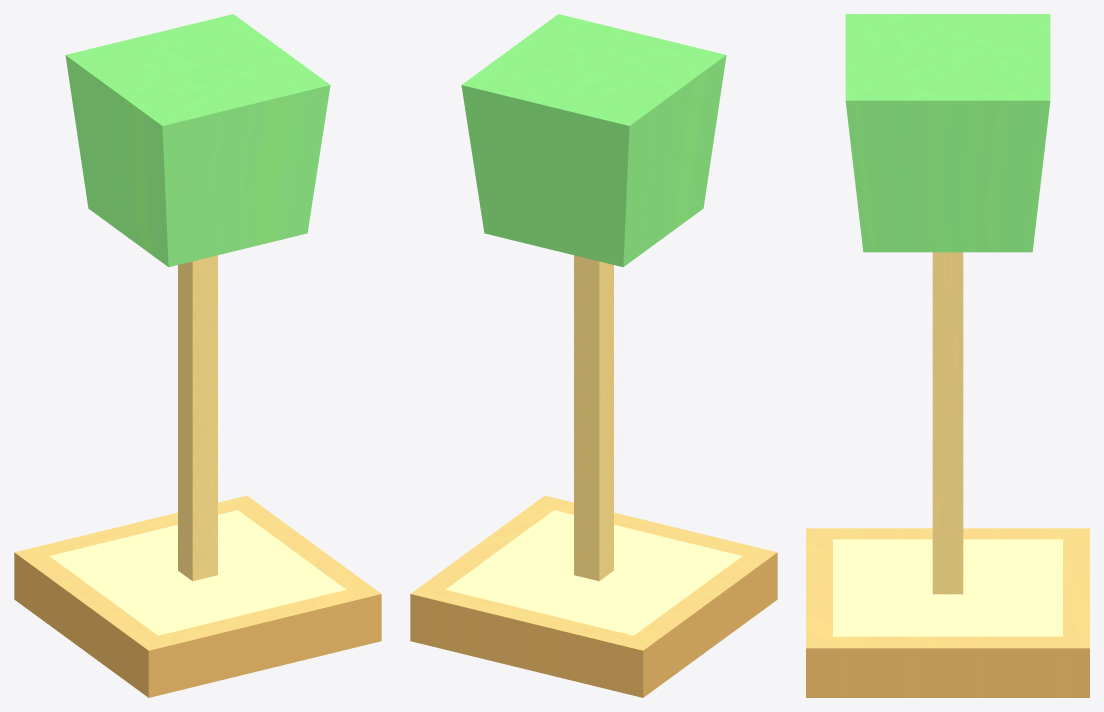
File: trees.007.glb
The picture shows the model from 3 angles, left to right: view 1: azimuth 30°, elevation 25°; view 2: azimuth 150°, elevation 25°; view 3: azimuth 270°, elevation 25°; orthographic projection. The views are drawn at different scales.
Visible parts, largest first — view 1: trees.007(Clone); view 2: trees.007(Clone); view 3: trees.007(Clone).
Boxes of the visible parts, x1,y1,x2,y2 form: trees.007(Clone): (14, 14, 381, 697); trees.007(Clone): (410, 14, 777, 697); trees.007(Clone): (806, 14, 1089, 697).
Size of the model in its own units: 1.06 by 2.38 by 1.06.
1 material, 1 textured.
